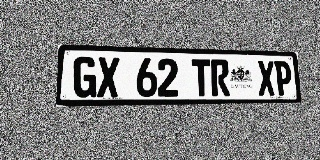2: (158, 58, 178, 97)
6: (136, 58, 157, 97)
G: (73, 56, 97, 98)
P: (274, 61, 292, 95)
R: (211, 59, 230, 96)
T: (191, 59, 211, 96)
X: (97, 57, 119, 97), (257, 60, 276, 96)
